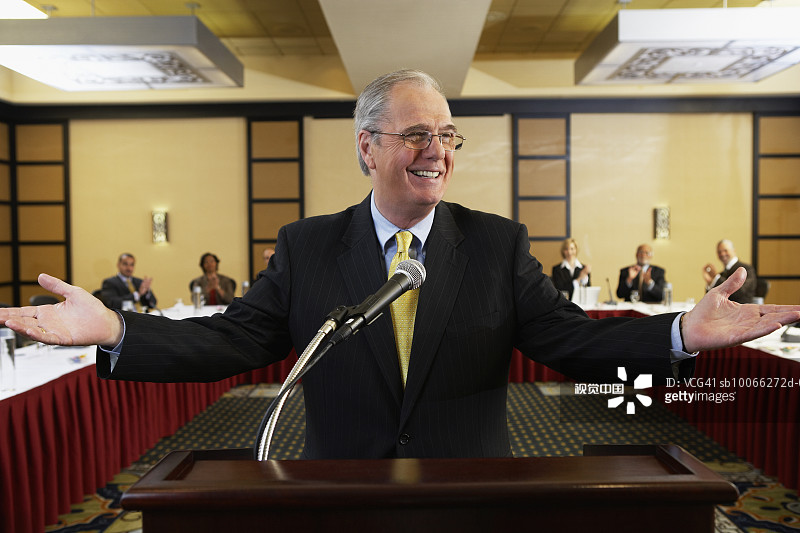no-phone: (673, 263, 800, 364), (1, 262, 131, 353)
